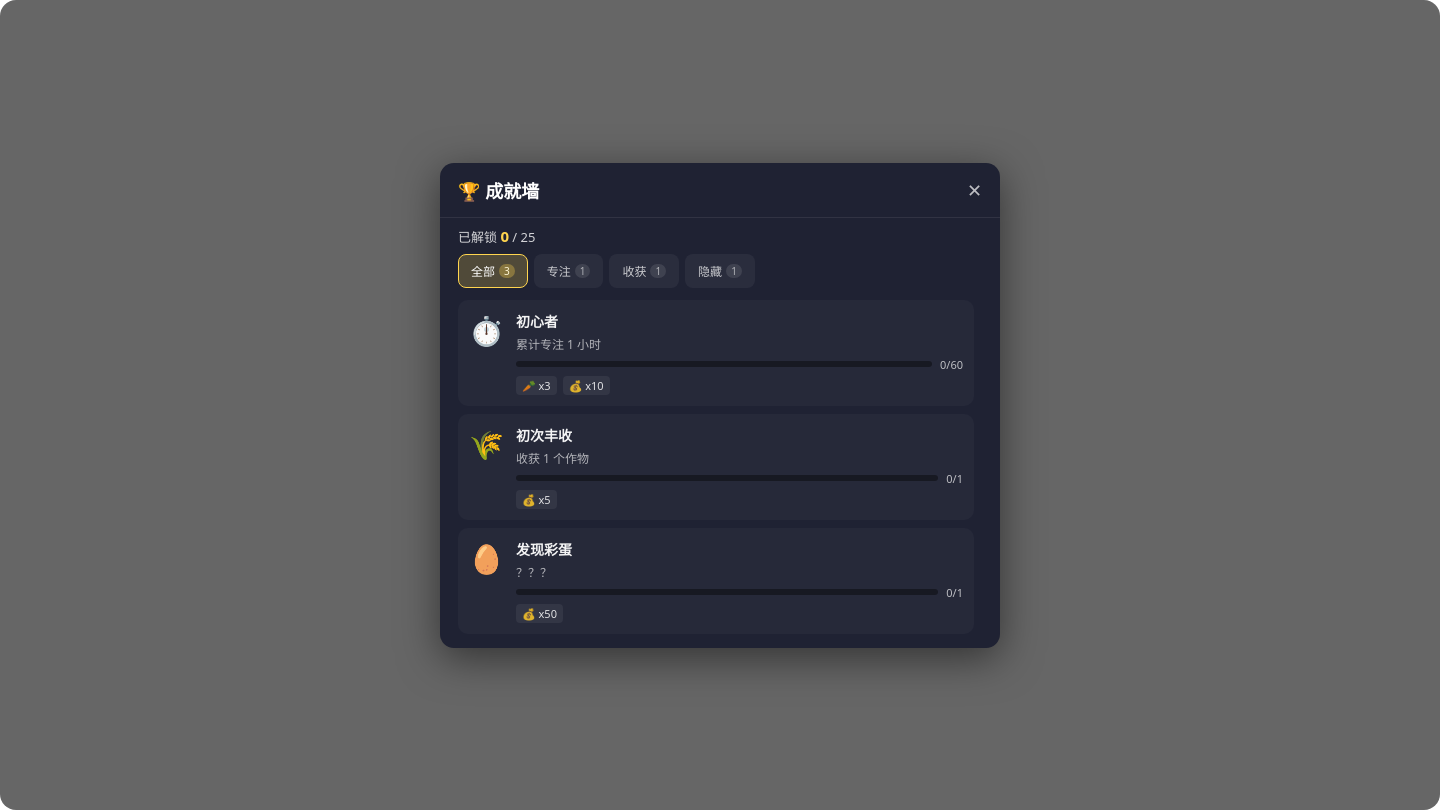
it: GardenAchievement.vue › 『hidden』分类应只显示 hidden 类成就
This screenshot has width=1440, height=810.
Click the button with class "achievement-tab" showing "隐藏". click: (720, 270)
box: [685, 254, 755, 288]
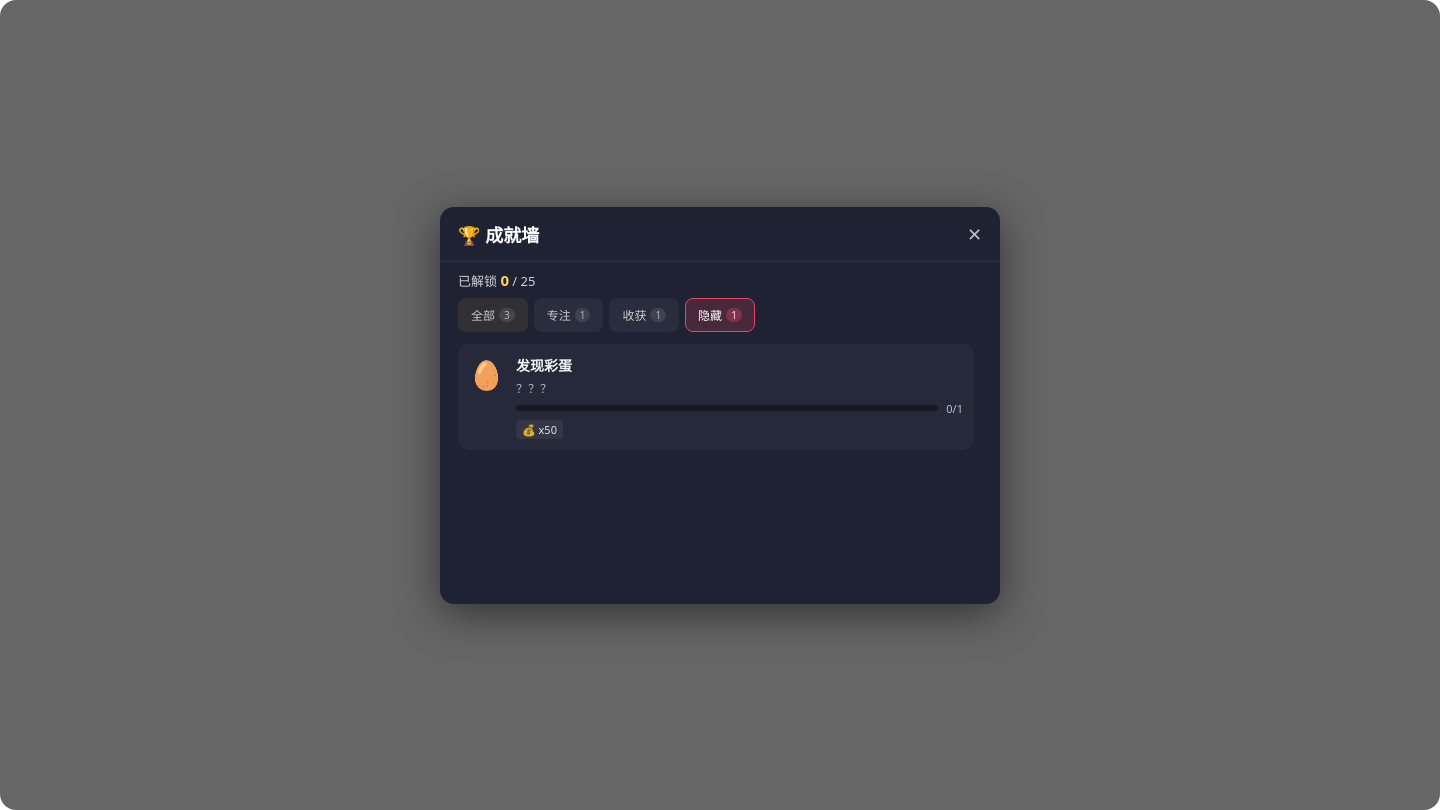
Expected: the text with class "achievement-item__name" reads "发现彩蛋", [516, 356, 572, 374]
Expected: the number of elements with class "achievement-item" is 1, [458, 344, 974, 450]
